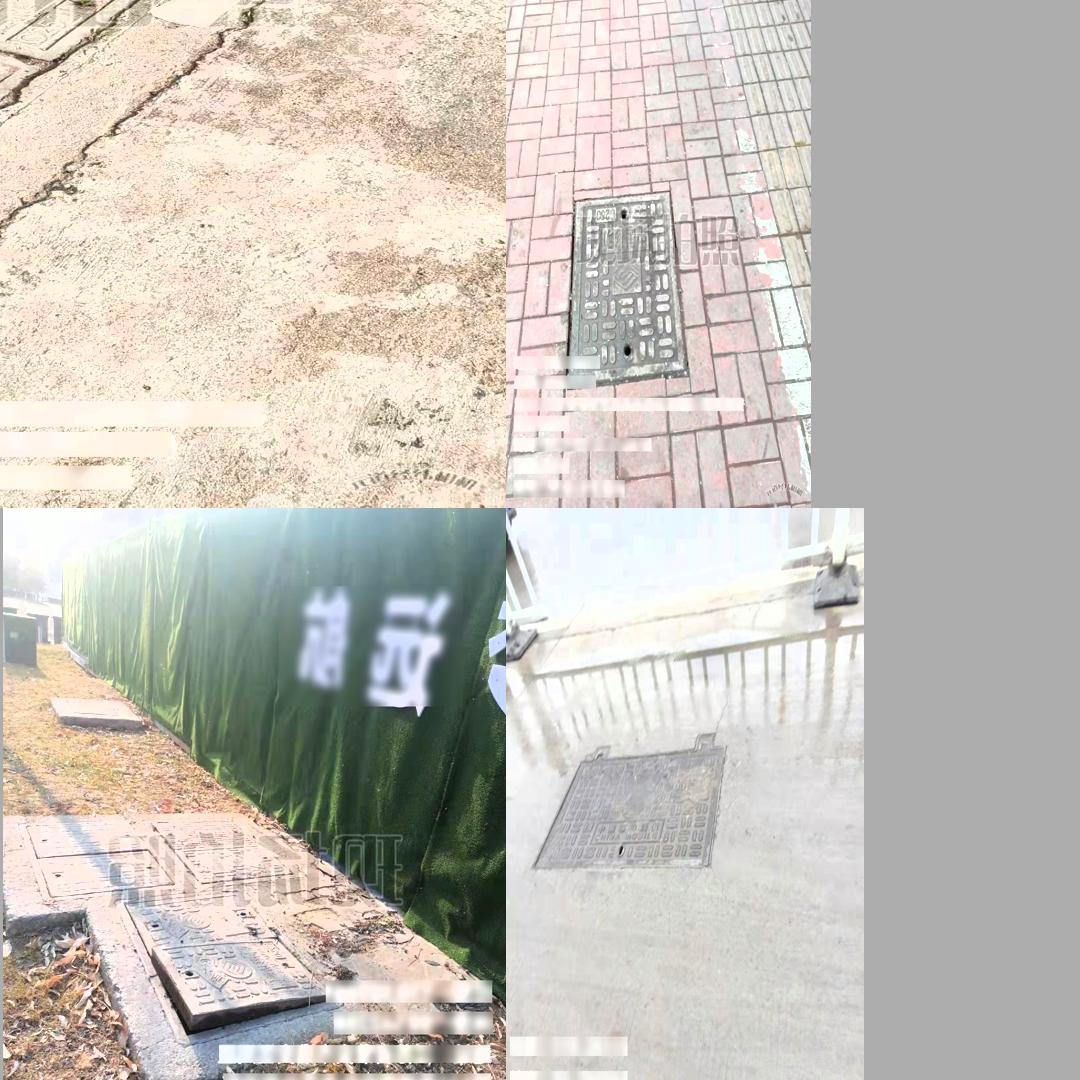good: (0, 0, 193, 206), (527, 738, 737, 878), (563, 191, 687, 390), (19, 816, 179, 897), (148, 816, 299, 885), (61, 698, 128, 716)
uncovered: (115, 893, 343, 1048)
